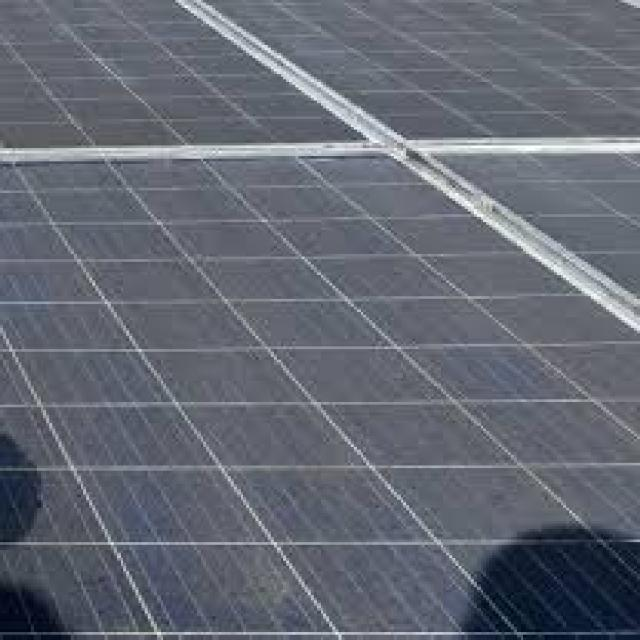Dusty: (2, 164, 633, 627), (2, 4, 632, 144)
